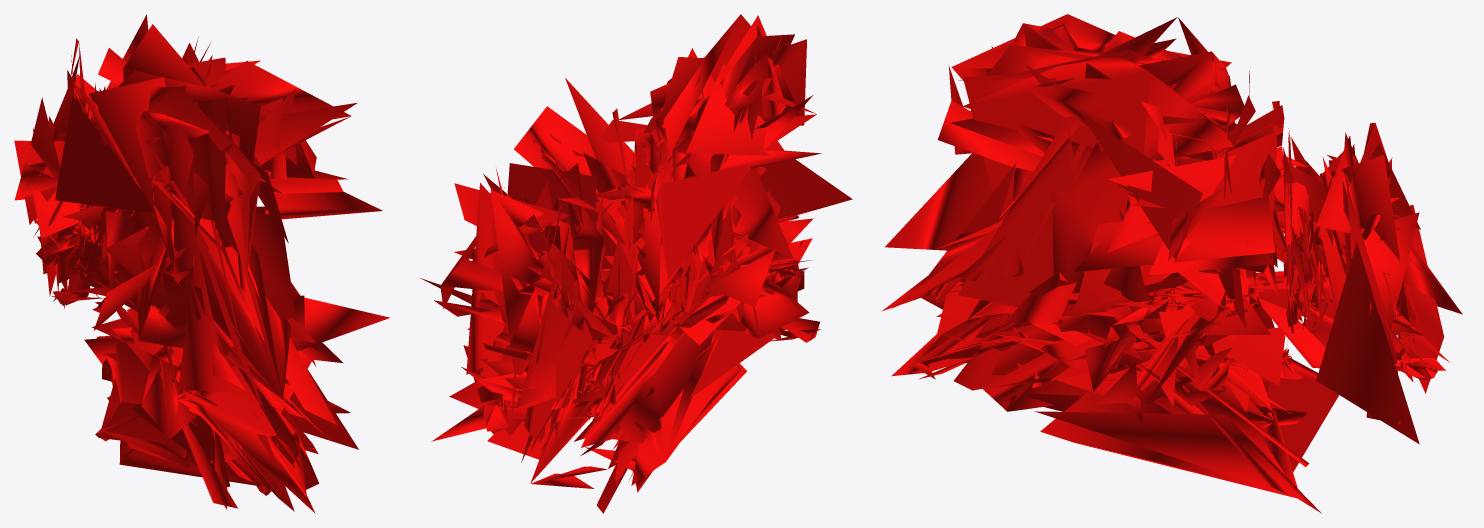
3 views of the same model, side by side, from view 1: azimuth 30°, elevation 25°; view 2: azimuth 150°, elevation 25°; view 3: azimuth 270°, elevation 25° (orthographic). The views are drawn at different scales.
Parts seen in each view (by area): view 1: Renderer Node; view 2: Renderer Node; view 3: Renderer Node.
Part boxes in pixels (left/top/right/bottom): Renderer Node: left=14, top=14, right=389, bottom=513; Renderer Node: left=420, top=14, right=852, bottom=513; Renderer Node: left=882, top=14, right=1462, bottom=513.
Bounding box in the file's own units: 0.4809 × 0.8221 × 0.9616.
Materials: 1 (1 with a texture image).
